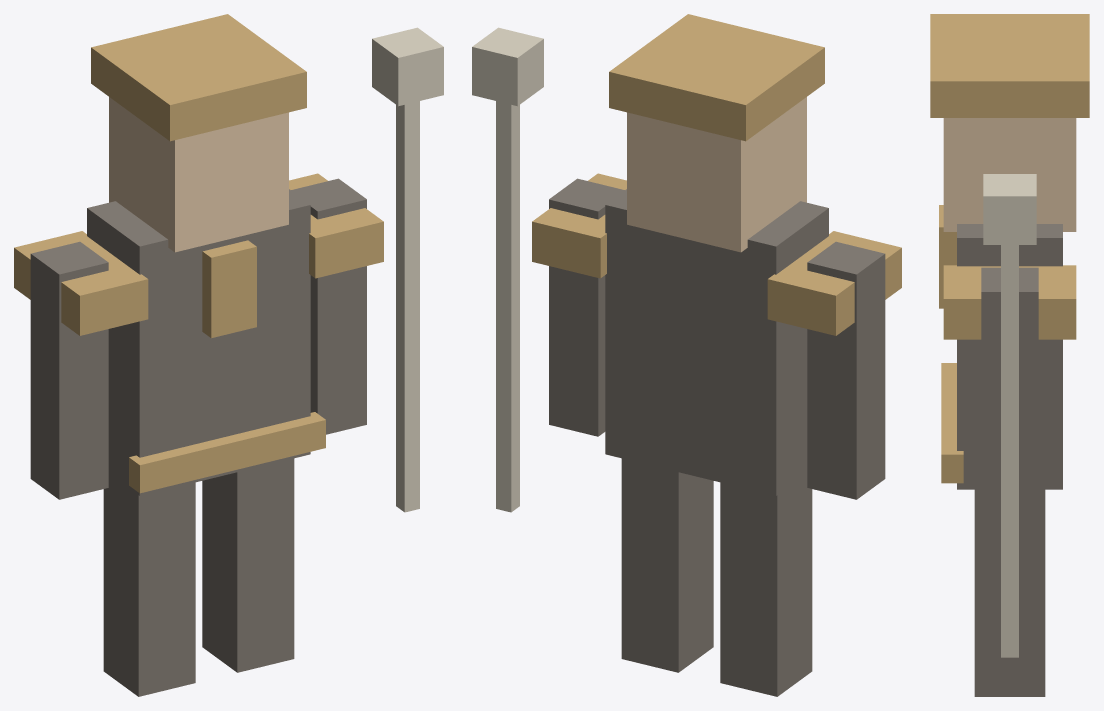
File: 04_varren_trenchmark_runner_at_bone_metal.glb
3 renders of one model, left to right at view 1: azimuth 30°, elevation 25°; view 2: azimuth 150°, elevation 25°; view 3: azimuth 270°, elevation 25°, orthographic.
Visible parts, largest first — view 1: Varren Trenchmark, Runner at Bone-Metal; view 2: Varren Trenchmark, Runner at Bone-Metal; view 3: Varren Trenchmark, Runner at Bone-Metal.
Boxes of the visible parts, x1,y1,x2,y2 form: Varren Trenchmark, Runner at Bone-Metal: (14, 14, 443, 696); Varren Trenchmark, Runner at Bone-Metal: (472, 14, 901, 696); Varren Trenchmark, Runner at Bone-Metal: (930, 14, 1089, 696).
Bounding box in the file's own units: 0.9805 × 1.47 × 0.3478.
